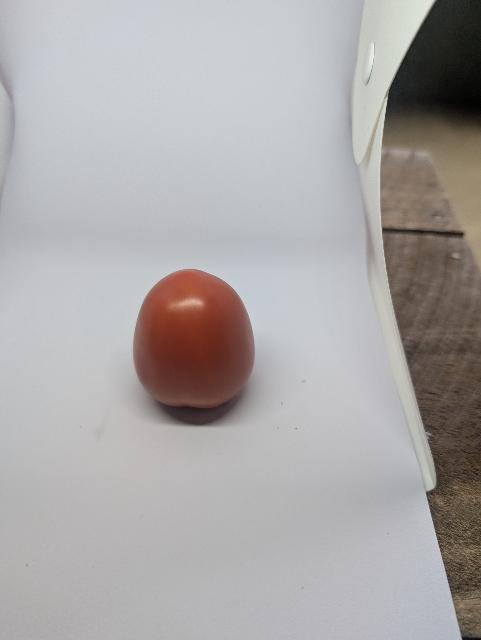red: (122, 263, 265, 433)
